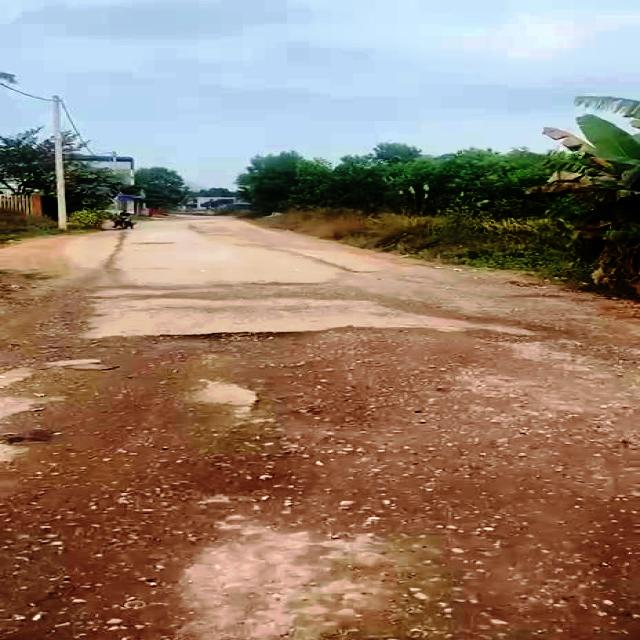pothole: (259, 370, 359, 427), (156, 328, 314, 356)
